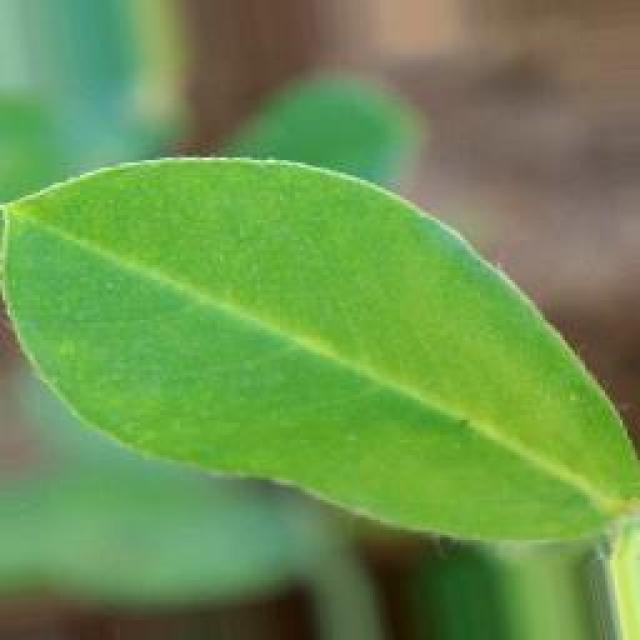Yellow_and_black_sigatoka: (0, 152, 640, 552)
